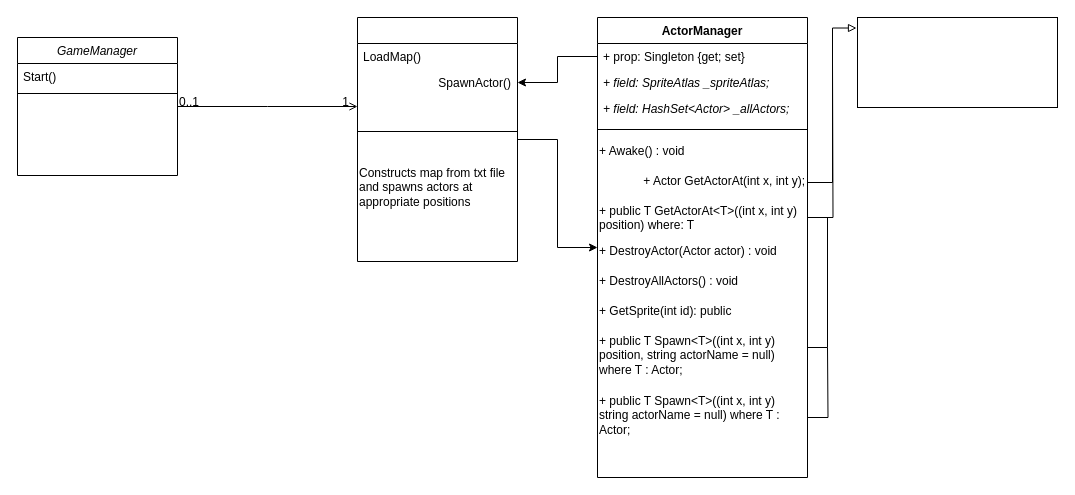
Some shapes in this 1075 by 495 pixel diagram are drawn without their labels. The shapes that lost their labels are listed below. From the top down, each one's box as (x1, y1, x2, y2) in pixels, then its label:
(856, 16, 1058, 108): Actor + field: Type + method(): Type
(356, 16, 518, 262): MapLoader
